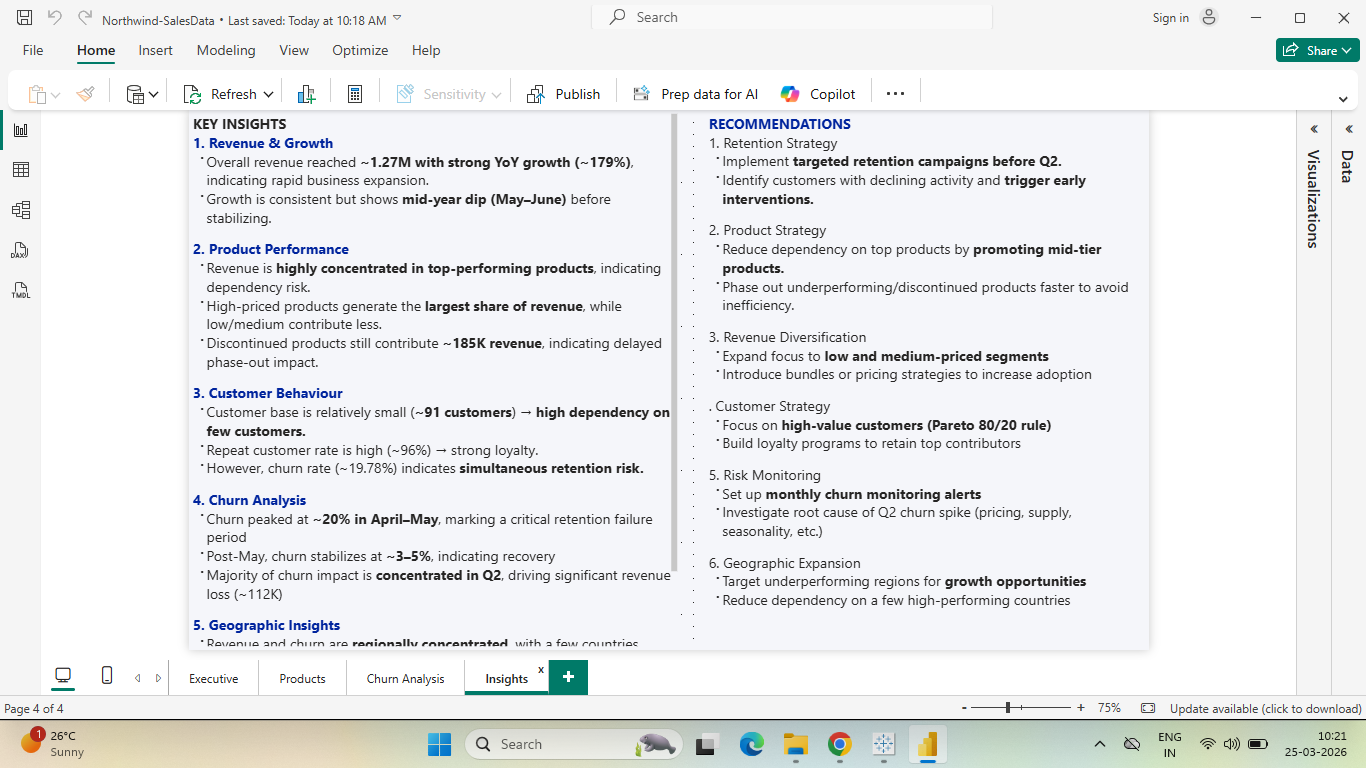

Layout of this report page (visuals, bound fields, positions):
{"tool":"powerbi","page":{"name":"Insights","canvas":[1280,720],"ordinal":3},"visuals":[{"type":"textbox","box":[0,0,656,720],"z":0},{"type":"textbox","box":[688,0,592,720],"z":1000}]}

Visuals, with their boxes on the page's 1280x720 design canvas (x1, y1, x2, y2). These are canvas units, not pixel positions in the 1366x768 screenshot, which may show the page scaled, cropped or inside an application window:
textbox: <region>0, 0, 656, 720</region>
textbox: <region>688, 0, 1280, 720</region>
